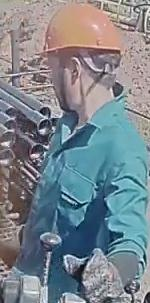gloves: (60, 248, 129, 302)
helmet: (35, 2, 123, 62)
vest: (12, 93, 148, 302)
